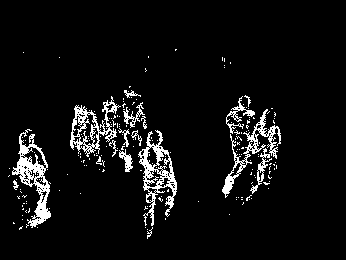person: (138, 130, 177, 239), (13, 130, 51, 229), (225, 93, 256, 200), (250, 107, 282, 203), (69, 105, 101, 180), (123, 88, 148, 176), (100, 96, 126, 177)
